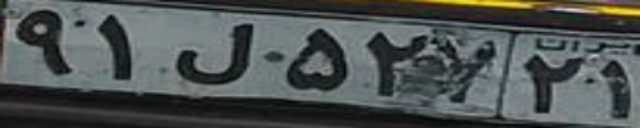1: (96, 12, 132, 80), (594, 60, 634, 119)
2: (363, 31, 428, 96), (519, 55, 581, 115)
5: (283, 26, 348, 92)
7: (430, 33, 497, 104)
9: (13, 8, 75, 75)
lam: (172, 19, 251, 84)
